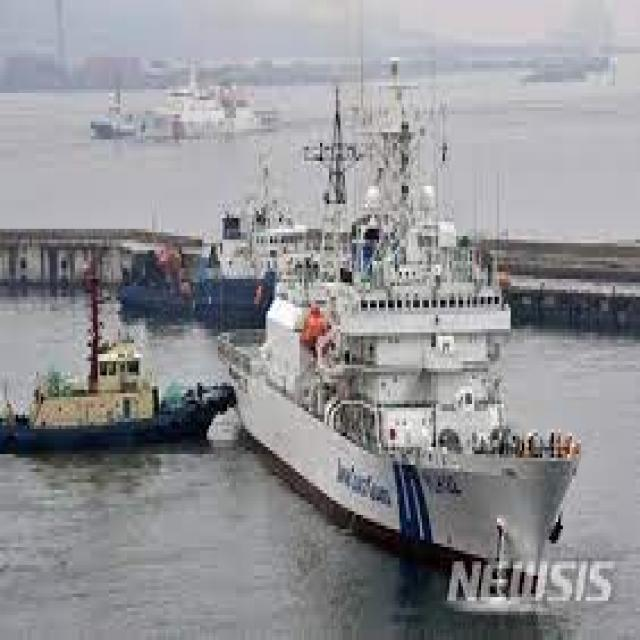Ship: (233, 40, 594, 602), (3, 258, 244, 473)
